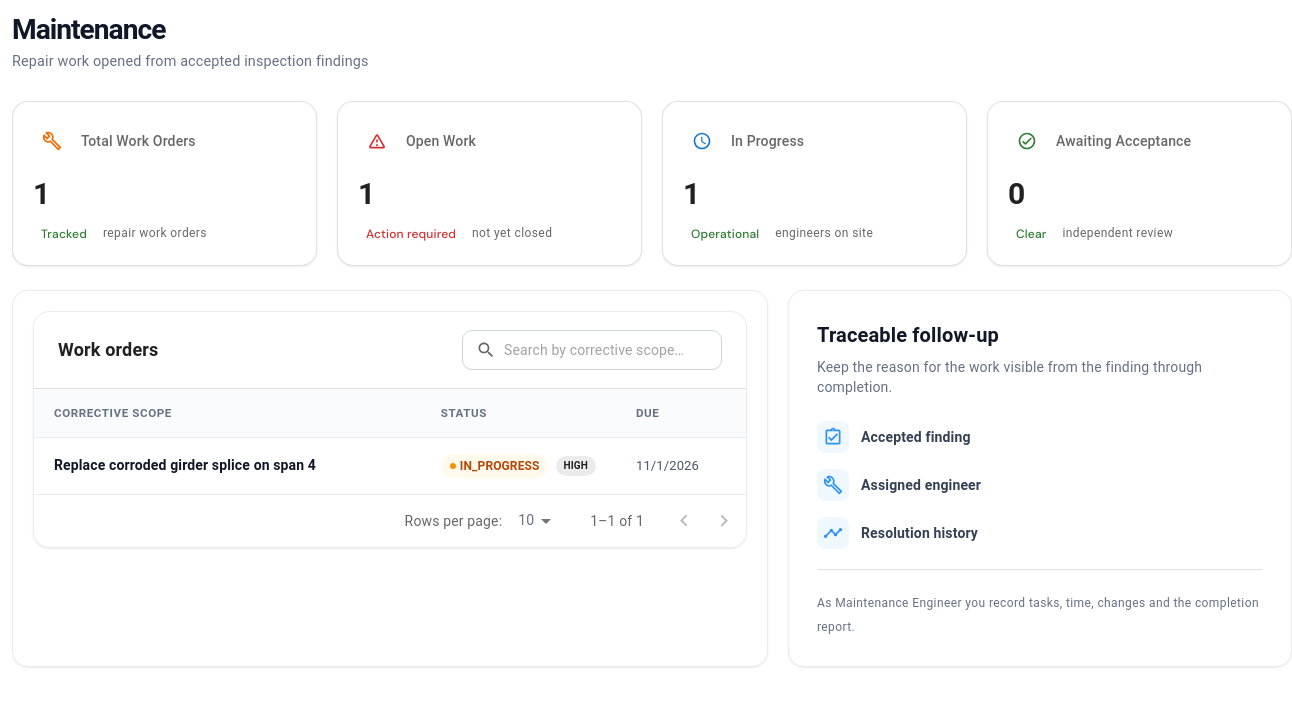
Test case: MaintenancePage › shows the reconciliation figures the platform computed
The width and height of the screenshot is (1292, 721).
Click the text "Replace corroded girder splice on span 4" at (185, 465), box [54,457,316,473]
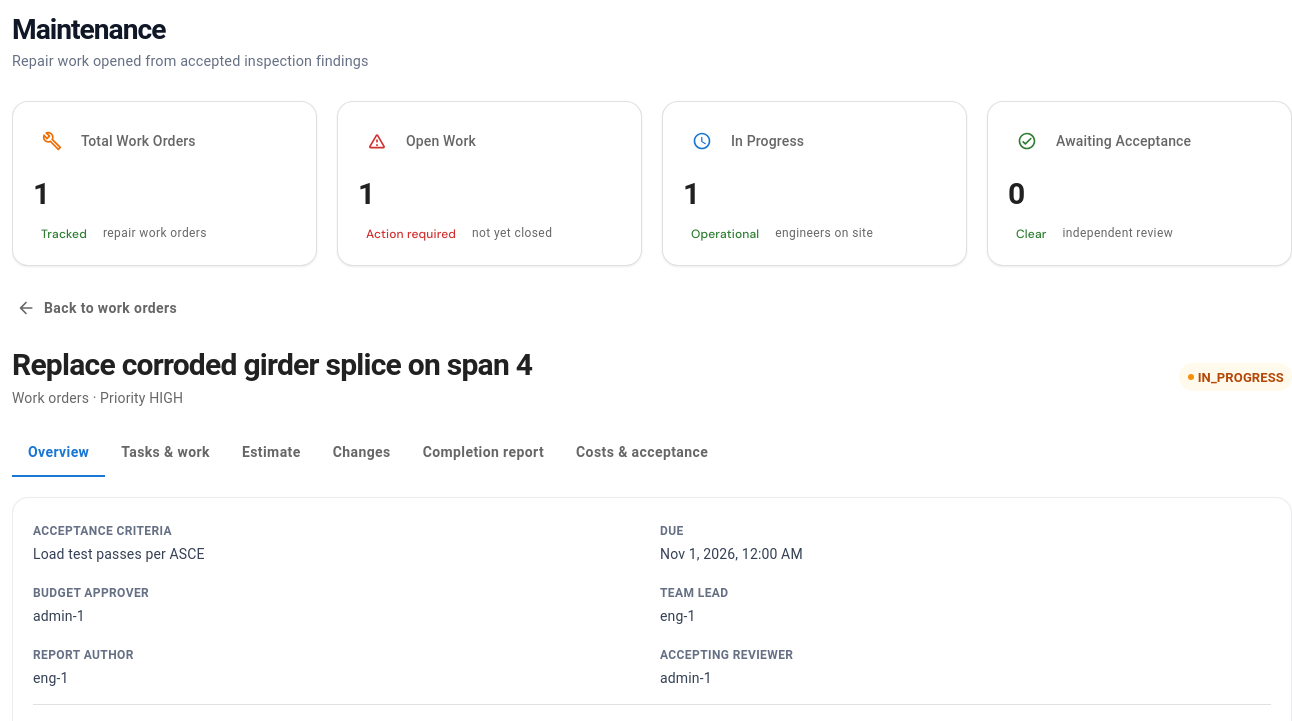
Click the tab "Costs & acceptance" at (642, 453), box [560,429,724,477]
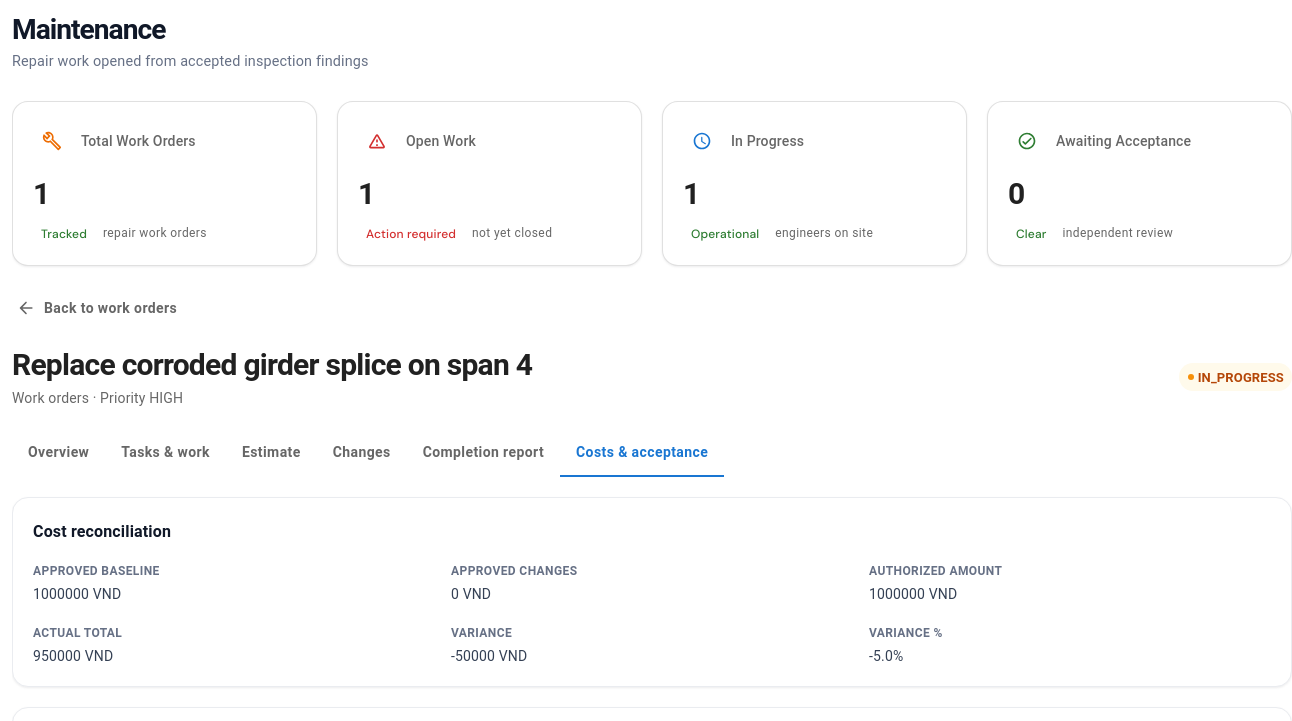
expect the text "Authorized amount" is shown: met, box [869,564,1002,578]
expect the text "1000000 VND" below "Approved baseline" is shown: met, box [33,586,121,602]
expect the text "-50000 VND" is shown: met, box [451,648,527,664]
